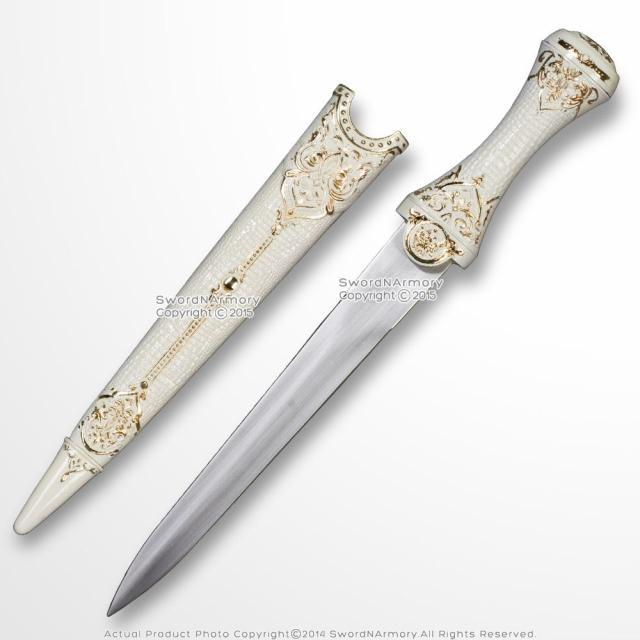short sword: (14, 25, 624, 620)
